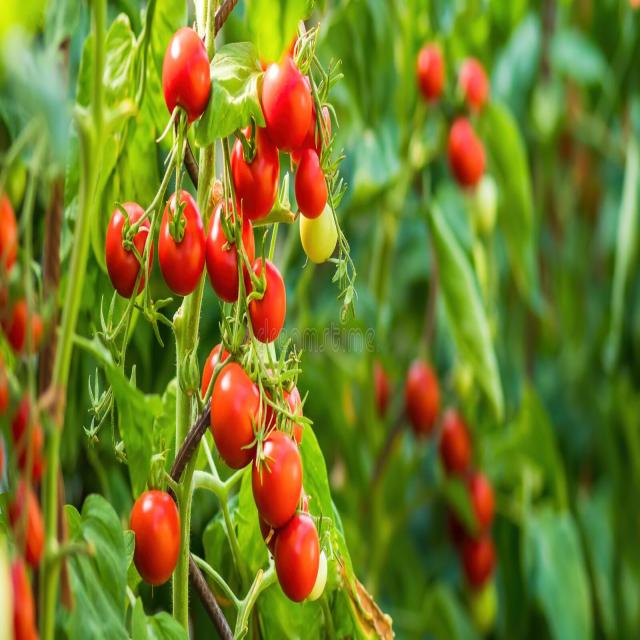kirmizi: (83, 7, 303, 516)
